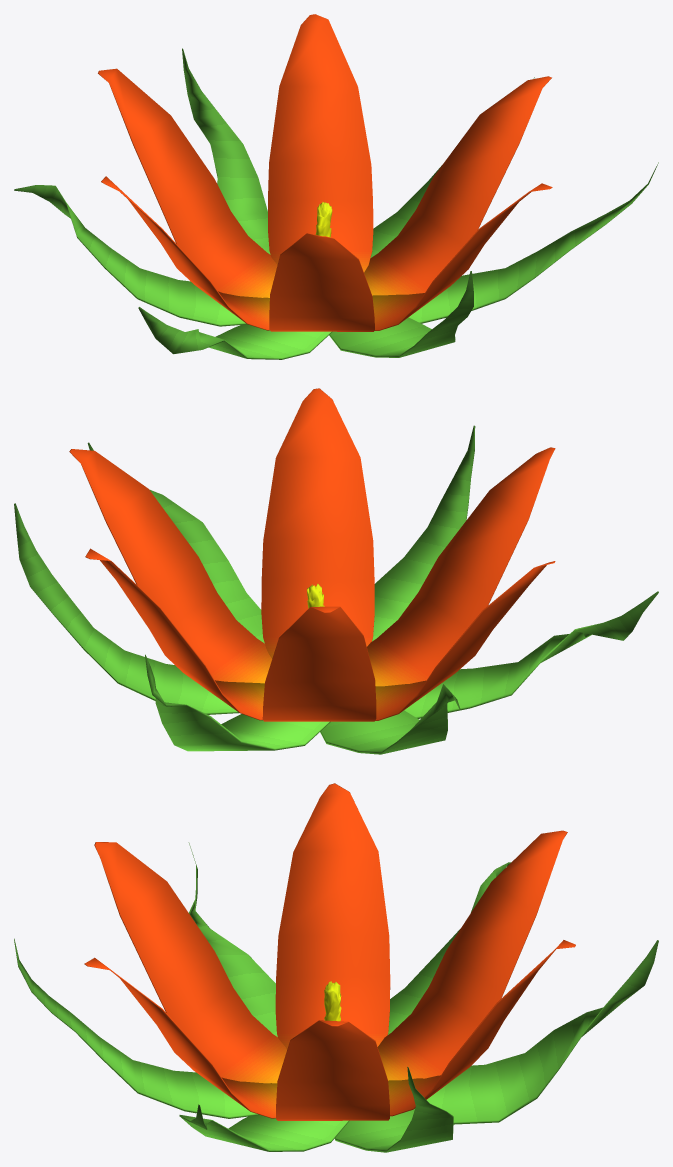
The model's file is SM_Red_Rare.fbx.
3 views of the same model, one above another, from view 1: azimuth 30°, elevation 25°; view 2: azimuth 150°, elevation 25°; view 3: azimuth 270°, elevation 25° (orthographic). The views are drawn at different scales.
Parts seen in each view (by area): view 1: Plane.009; view 2: Plane.009; view 3: Plane.009.
Boxes of the visible parts, <box> form: Plane.009: <box>14,14,658,359</box>; Plane.009: <box>14,388,658,754</box>; Plane.009: <box>14,783,658,1152</box>.
Size of the model in its own units: 12.44 by 4.37 by 12.2.
